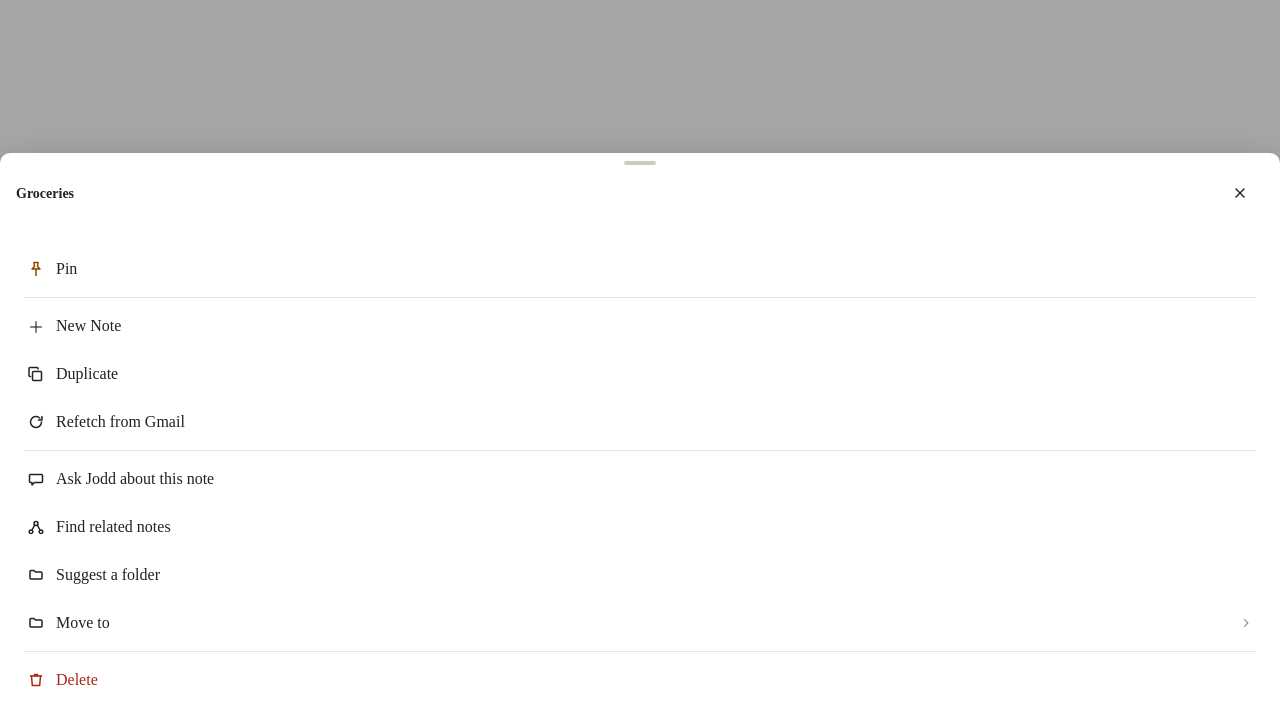
note context menu on phone › Move to is a second level inside the same sheet, with a Back row
Click the button "Move to": (83, 622) [16,599,1264,647]
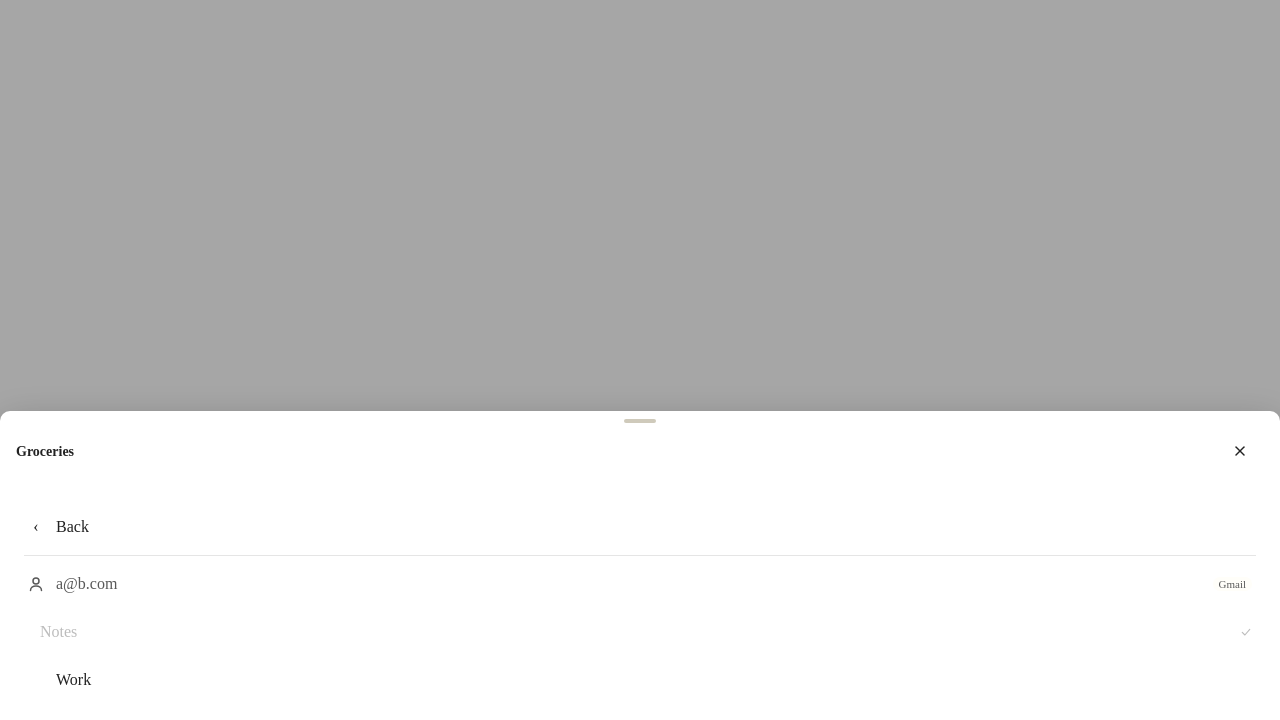
Now the button "‹ Back" is shown
Now the text "Pin" is gone
Click the button "‹ Back": (72, 526) [16,503,1264,551]
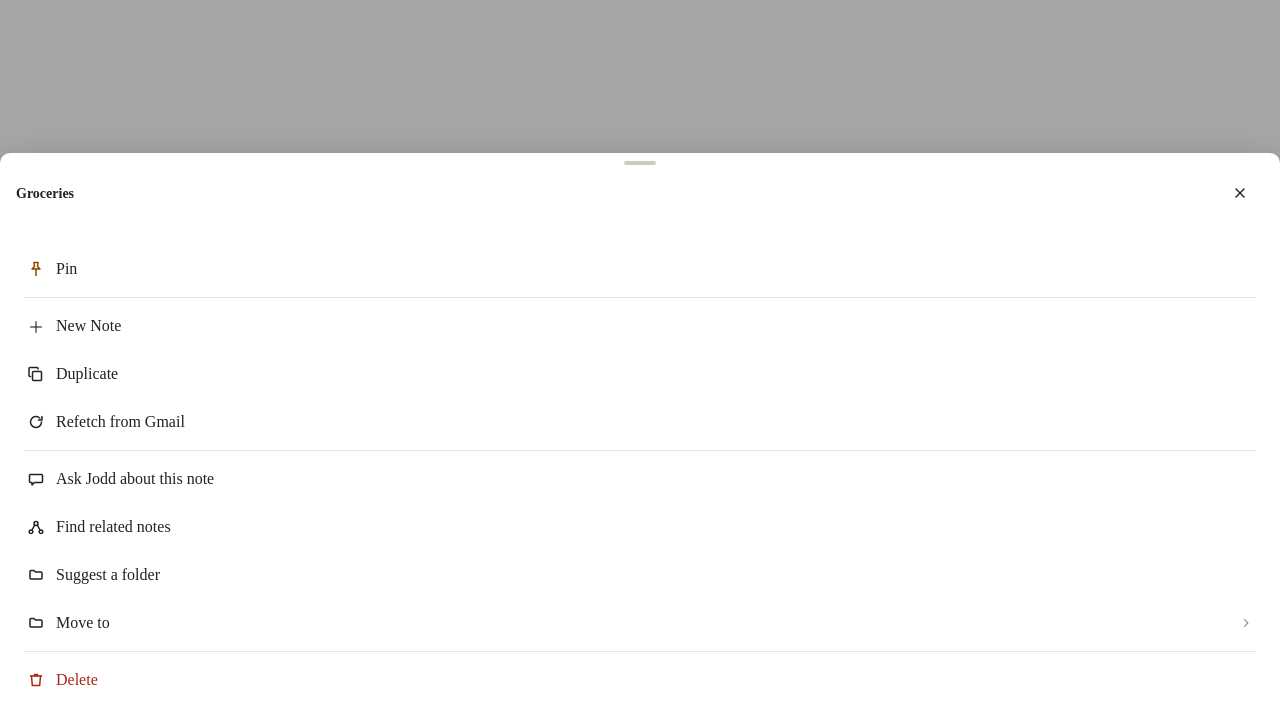
Now the button "Pin" is shown, box [16,245,1264,293]
